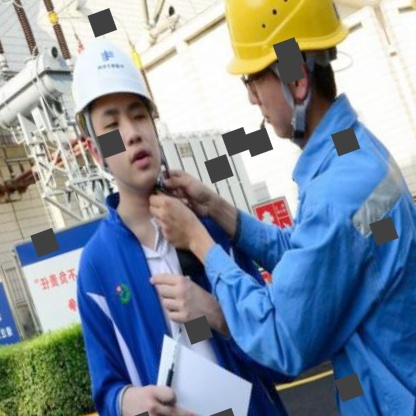white: (48, 22, 168, 143)
yellow: (189, 0, 357, 95)
